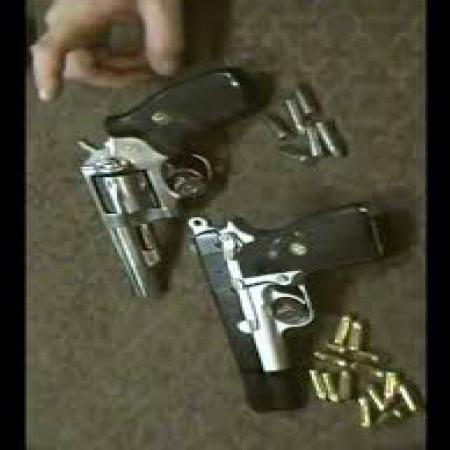Pistol: (70, 68, 255, 306), (178, 198, 376, 415)
